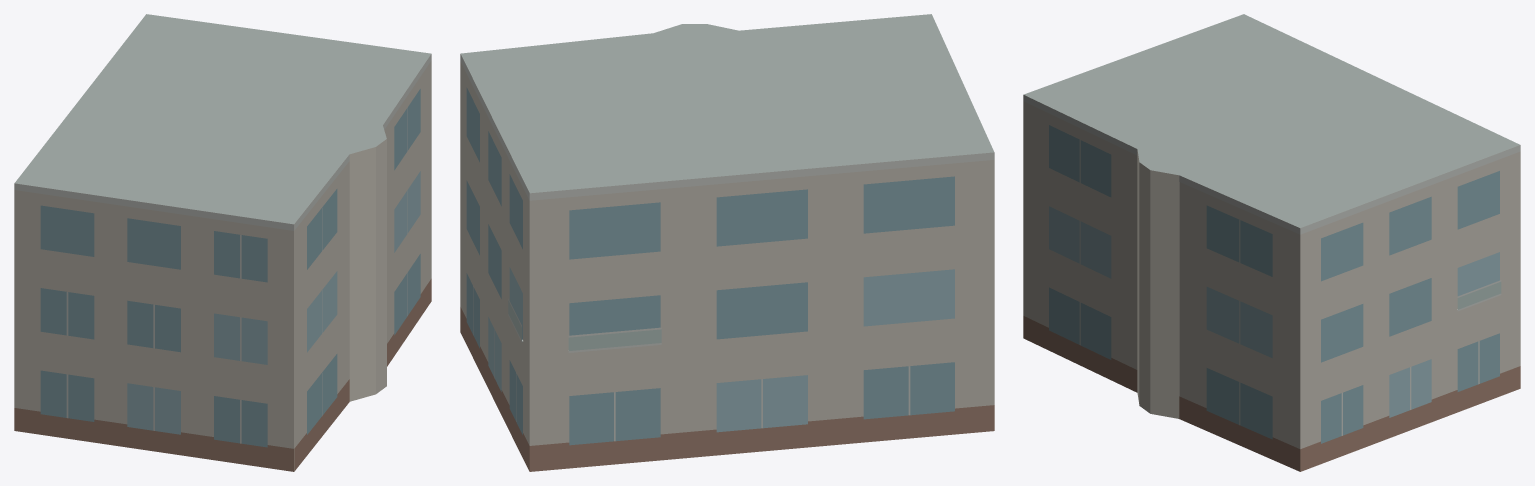
The model's file is survey-upis-32625318.glb.
The picture shows the model from 3 angles, left to right: view 1: azimuth 30°, elevation 25°; view 2: azimuth 150°, elevation 25°; view 3: azimuth 270°, elevation 25°; orthographic projection. The views are drawn at different scales.
Visible parts, largest first — view 1: survey-upis-32625318.tmp; view 2: survey-upis-32625318.tmp; view 3: survey-upis-32625318.tmp.
Boxes of the visible parts, x1,y1,x2,y2 form: survey-upis-32625318.tmp: (14,14,431,471); survey-upis-32625318.tmp: (460,14,994,471); survey-upis-32625318.tmp: (1023,14,1520,471).
Bounding box in the file's own units: 17.26 × 9.15 × 16.93.
